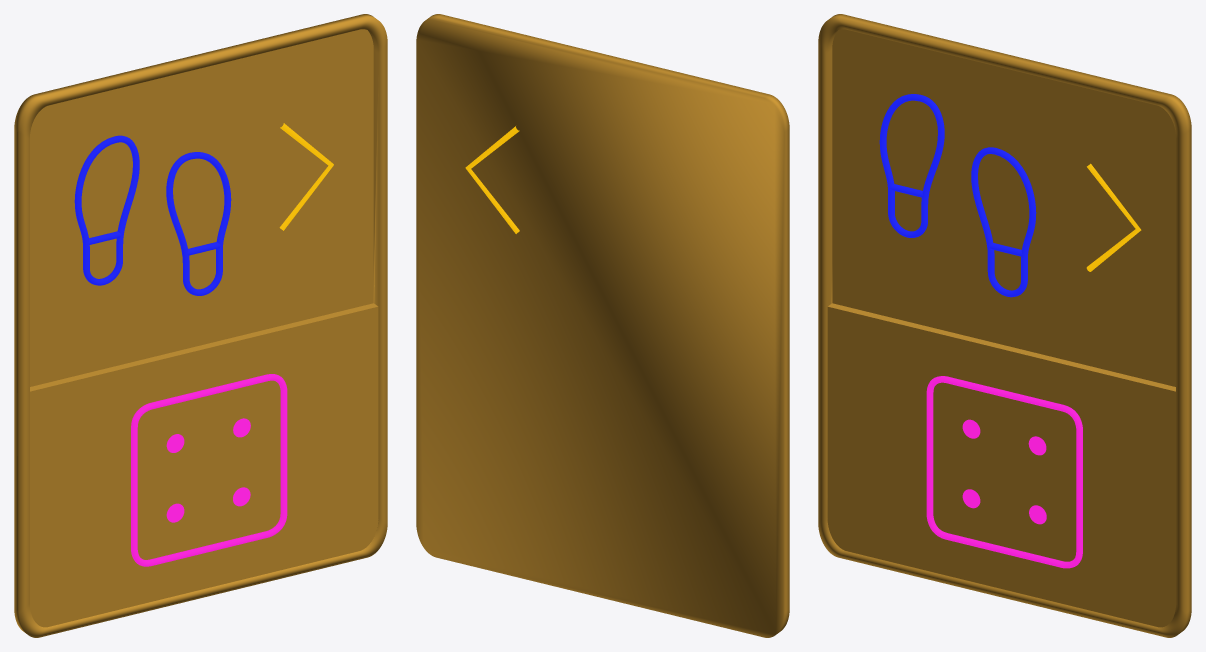
File: CardMoveRight.glb
The picture shows the model from 3 angles, left to right: view 1: azimuth 30°, elevation 25°; view 2: azimuth 150°, elevation 25°; view 3: azimuth 330°, elevation 25°; orthographic projection.
Visible parts, largest first — view 1: Cube, Curve.008, Curve, Curve.001, Curve.004; view 2: Cube, Curve.004; view 3: Cube, Curve.008, Curve.001, Curve, Curve.004.
Part boxes in pixels (x1,y1,x2,y2): Cube: (14, 14, 387, 637); Curve.008: (131, 374, 287, 566); Curve: (74, 135, 139, 285); Curve.001: (166, 152, 231, 295); Curve.004: (279, 123, 333, 230); Cube: (416, 14, 789, 637); Curve.004: (465, 126, 519, 233); Cube: (818, 14, 1191, 637); Curve.008: (926, 376, 1082, 568); Curve.001: (971, 147, 1036, 297); Curve: (879, 94, 944, 237); Curve.004: (1086, 163, 1141, 271).
Bounding box in the file's own units: 5 × 7 × 0.23.
